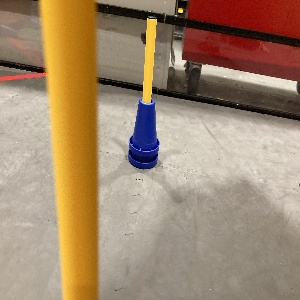Blue_2: (125, 93, 161, 170)
